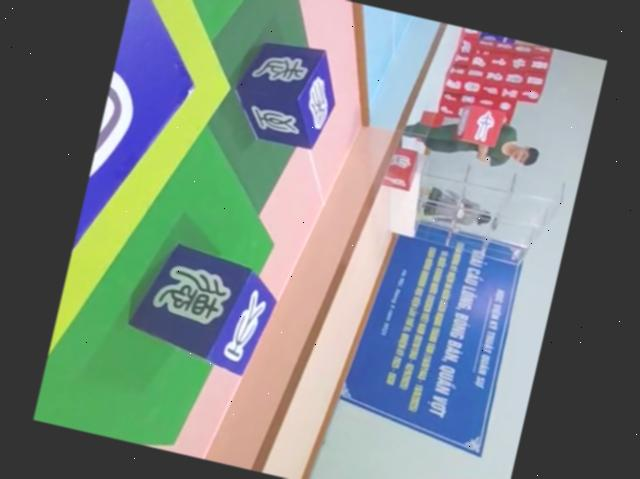R2 Fake Blue: (121, 233, 283, 377), (225, 30, 347, 153)
